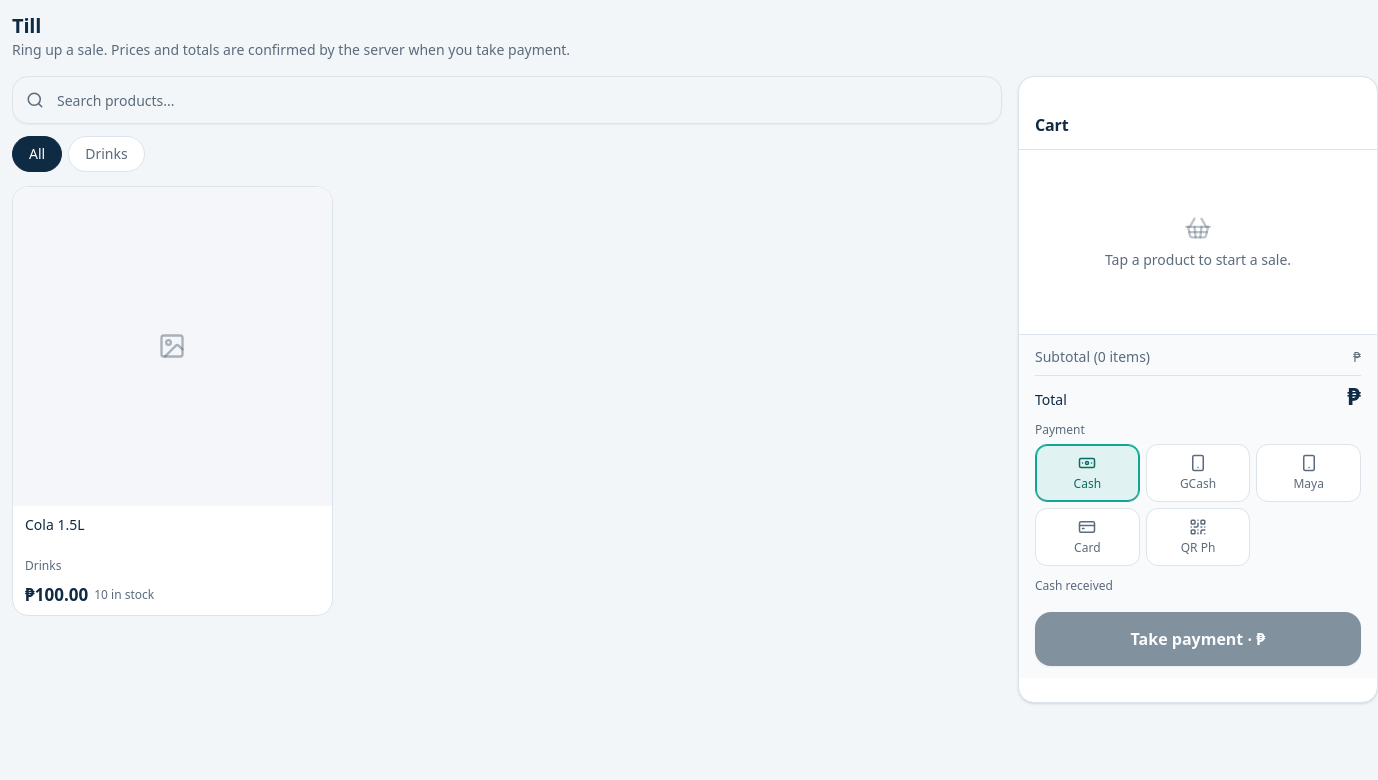
Scenario: the cart › removes a line at zero
Click the button with aria-label "Add Cola 1.5L". click: (172, 401)
box: [12, 186, 333, 616]
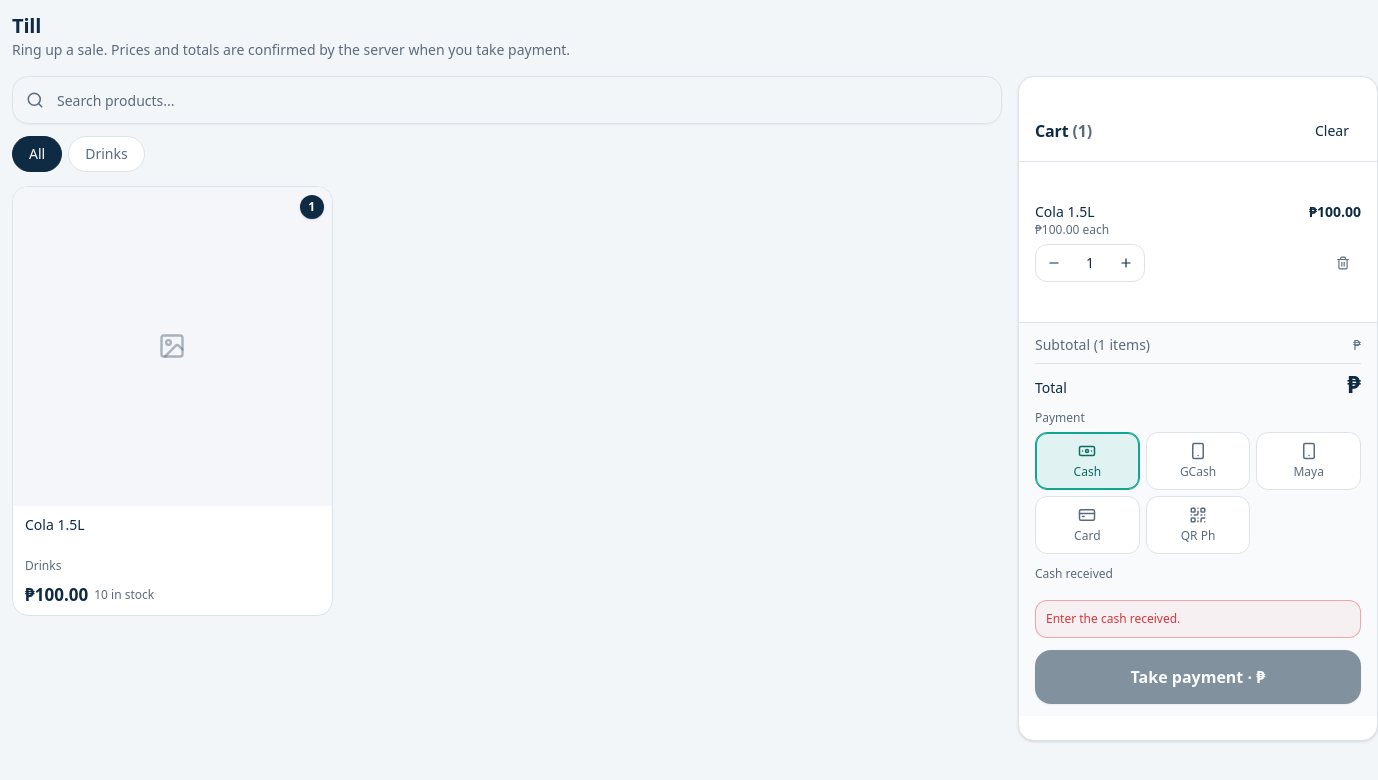
Click the button named "One less Cola 1.5L". click: (1054, 263)
box: [1036, 245, 1072, 281]
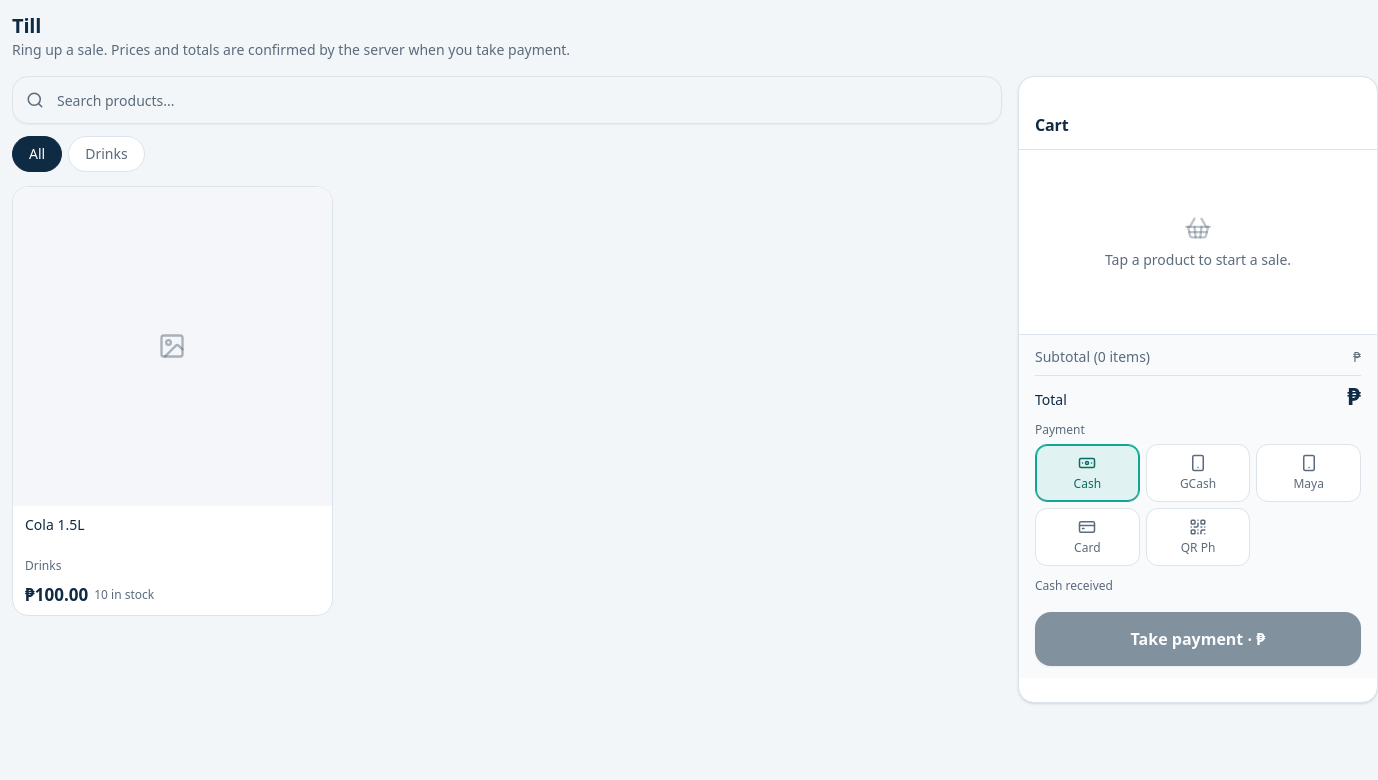
expect the text "Tap a product to start a sale." is shown: met, box [1105, 250, 1291, 270]
